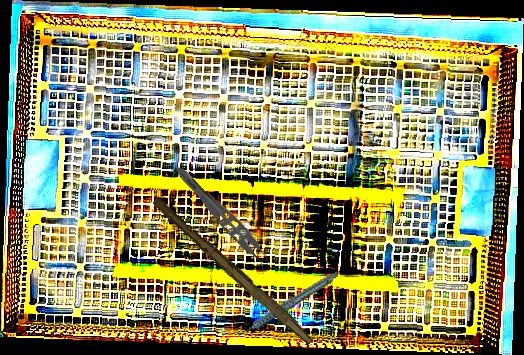Handpiece: (228, 272, 346, 336)
Scalpel Handle: (148, 195, 319, 346)
Tissue Forceps: (165, 162, 279, 276)
